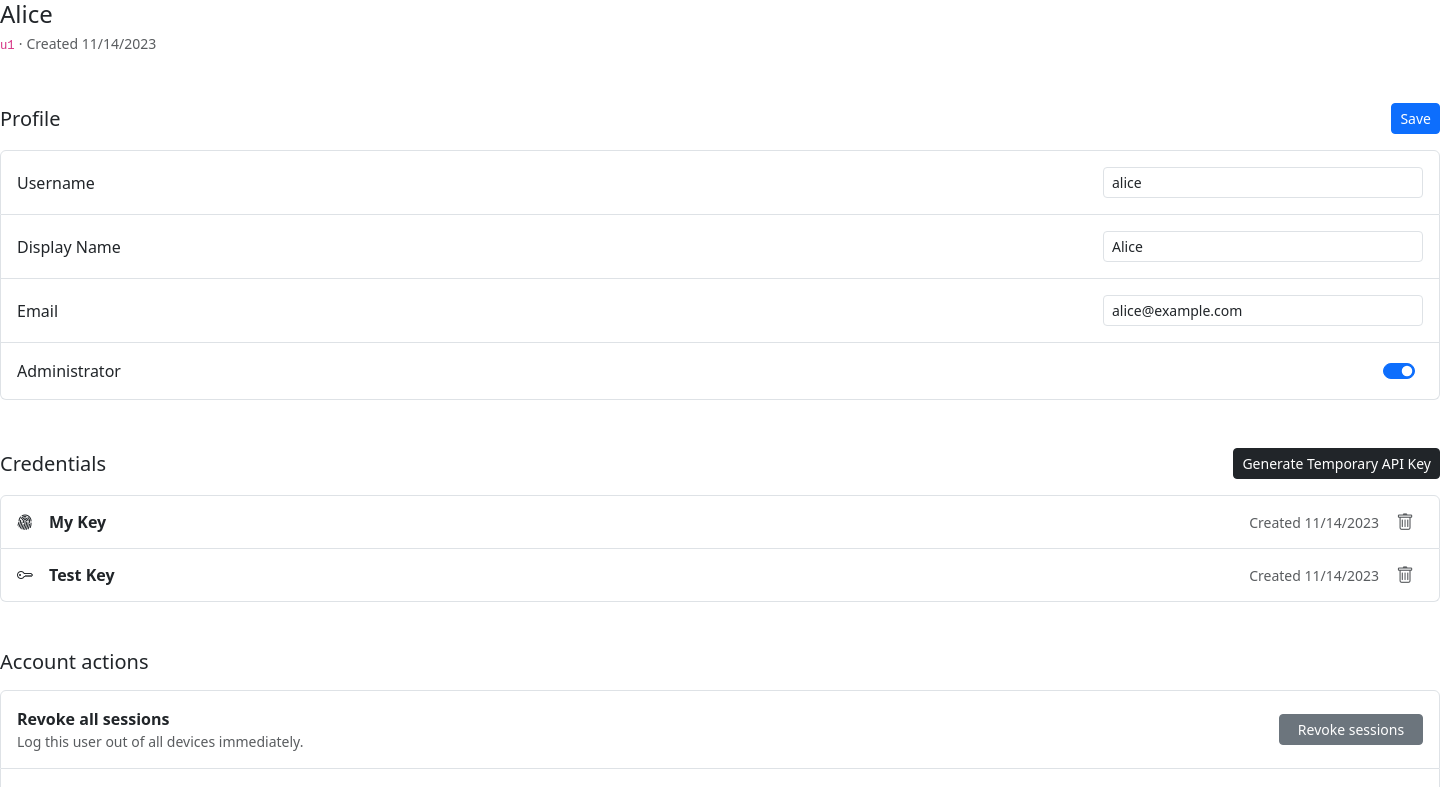
Test case: AdminUserDetailPage › revokes all sessions for user
Click the button "Revoke sessions". click: [1351, 730]
box: [1279, 714, 1423, 745]
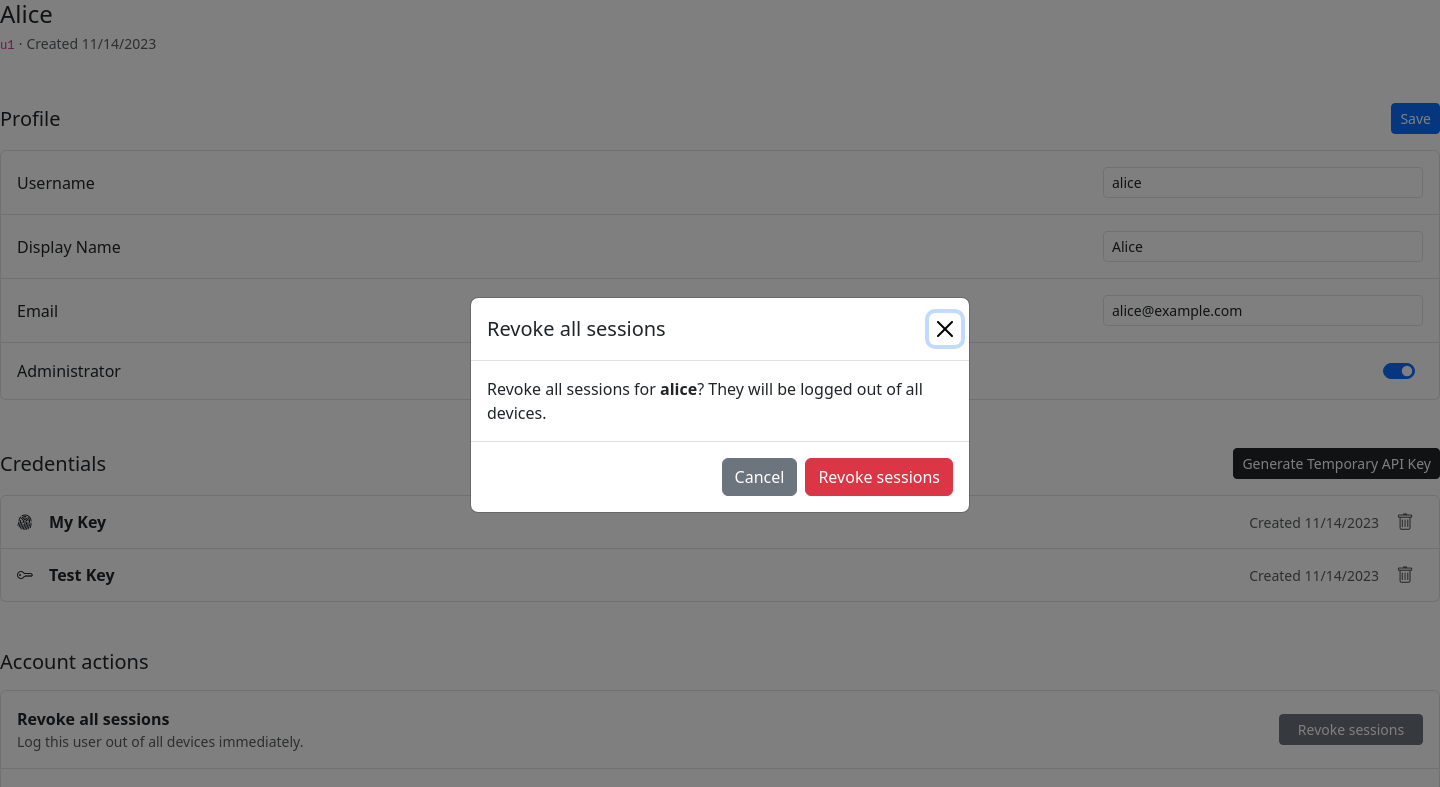
Check: the dialog is shown, box [470, 297, 970, 513]
Click the button with class "btn-danger" showing "Revoke sessions". click: [879, 477]
box: [805, 458, 953, 496]
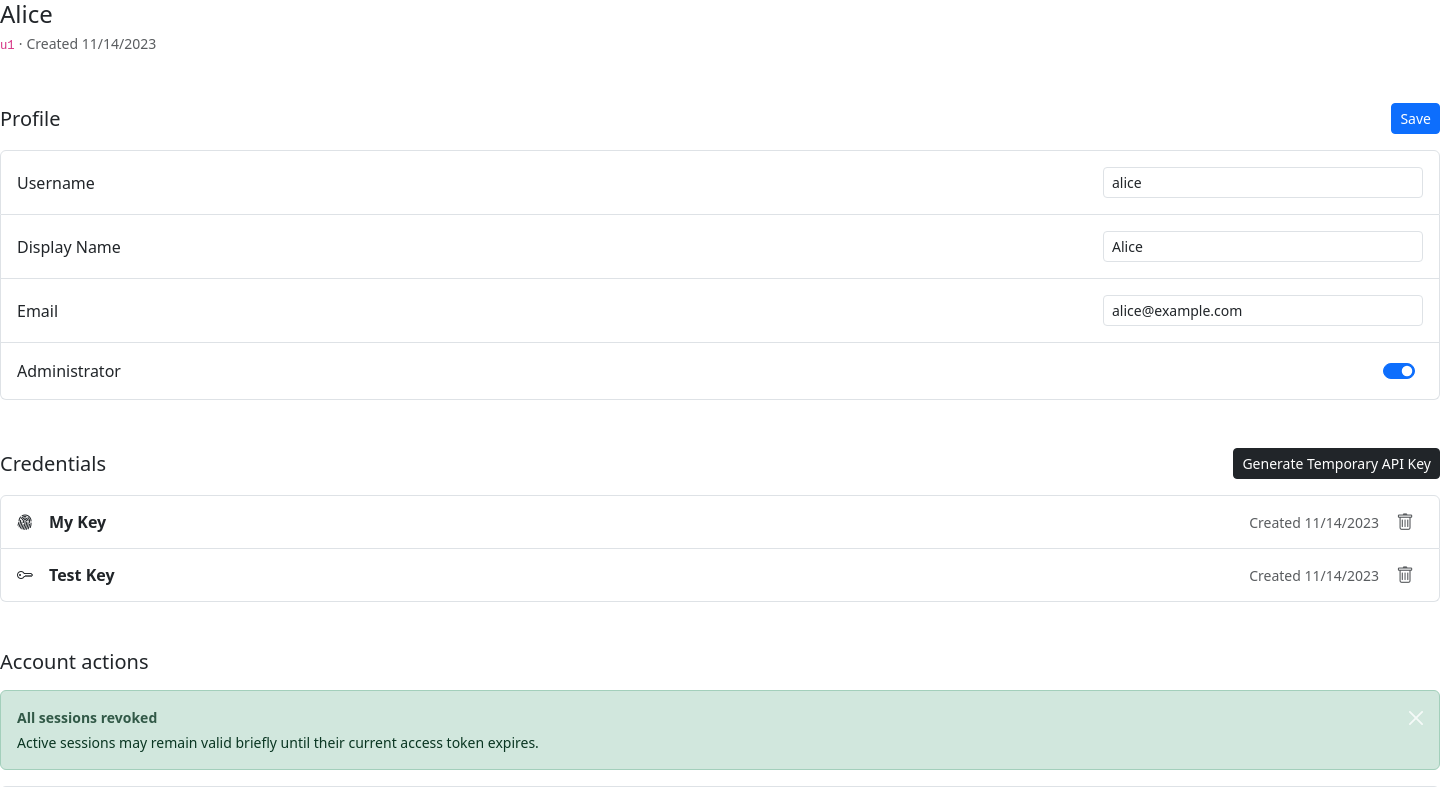
Check: the message shows "All sessions revoked", box [17, 708, 157, 727]
